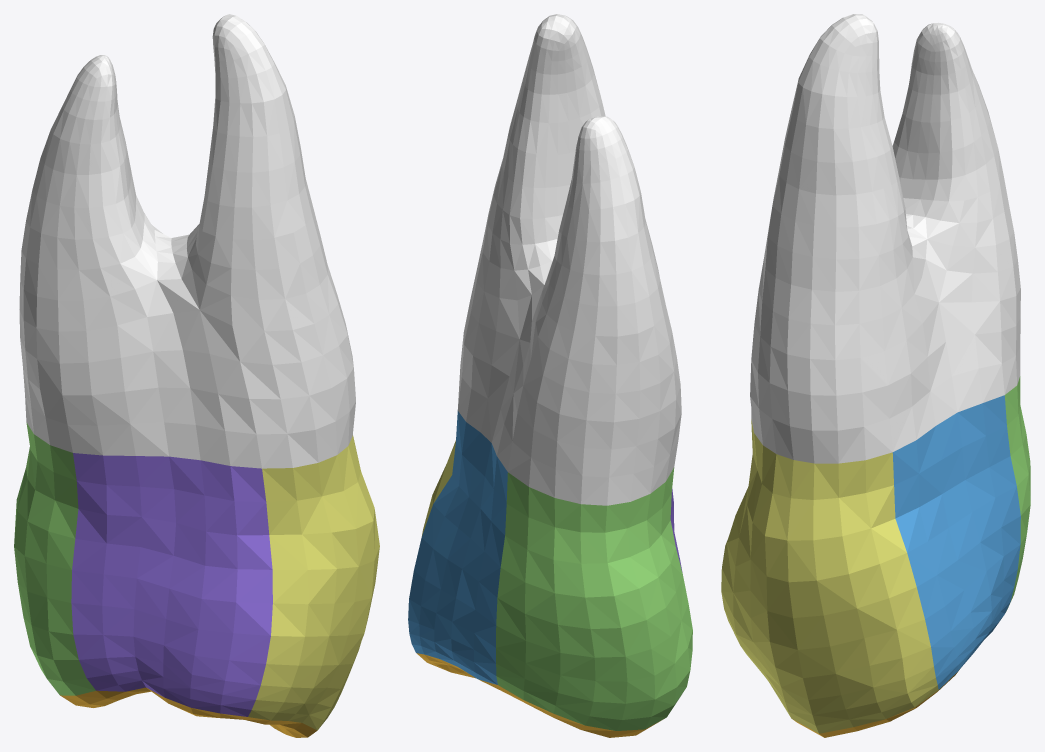
Rendered from tooth_24_annotated.glb.
3 renders of one model, left to right at view 1: azimuth 30°, elevation 25°; view 2: azimuth 150°, elevation 25°; view 3: azimuth 270°, elevation 25°, orthographic. The views are drawn at different scales.
Visible parts, largest first — view 1: FDI_24; view 2: FDI_24; view 3: FDI_24.
Part boxes in pixels (<box>): FDI_24: <box>14,14,379,737</box>; FDI_24: <box>408,14,692,737</box>; FDI_24: <box>721,14,1030,737</box>.
Bounding box in the file's own units: 0.00851 × 0.0203 × 0.00825.
